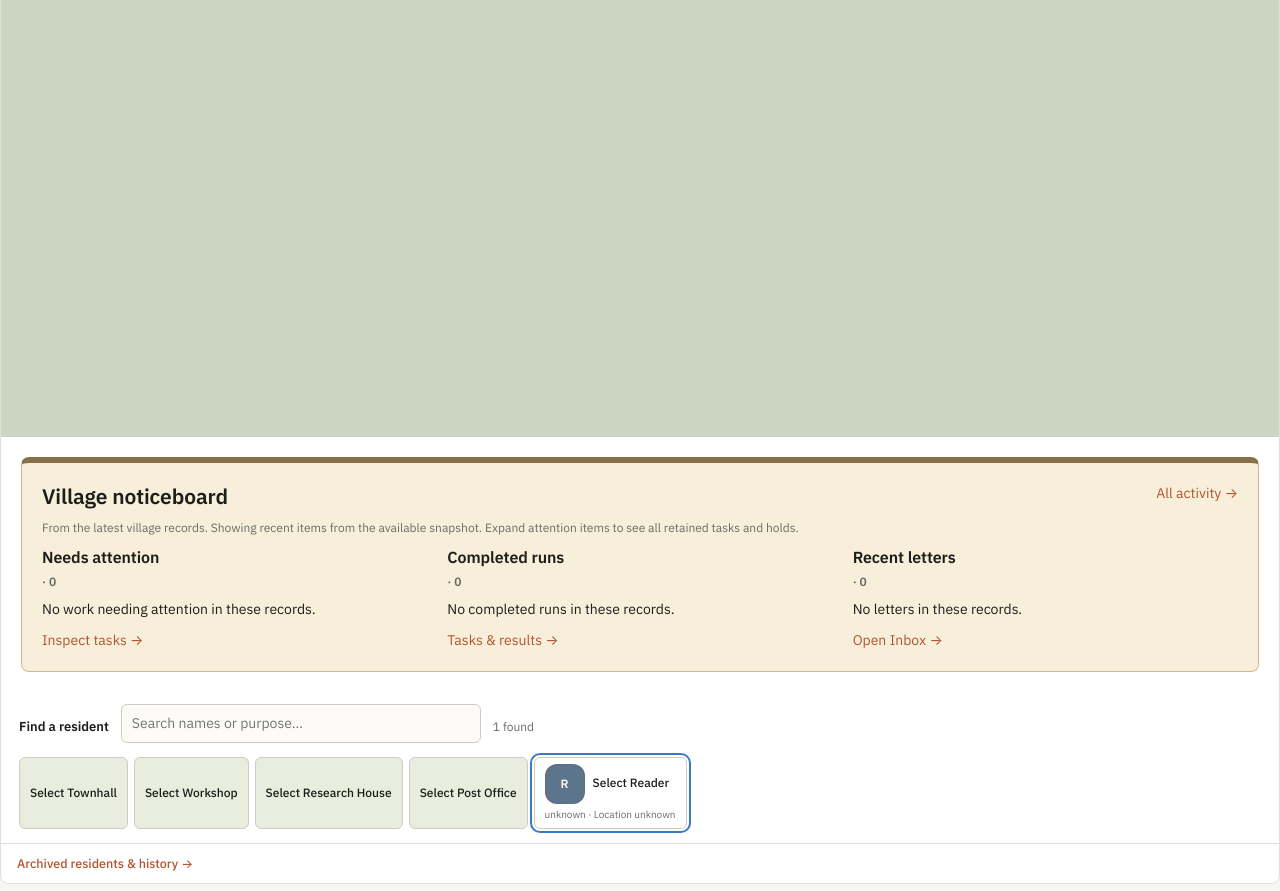
Test: keeps the initial opener through mesh selection and Escape from camera controls
(page scrolled)
Click the button "R Select Reader unknown · Location unknown" at x=610, y=793, box 534,757 -> 686,829
(page scrolled)
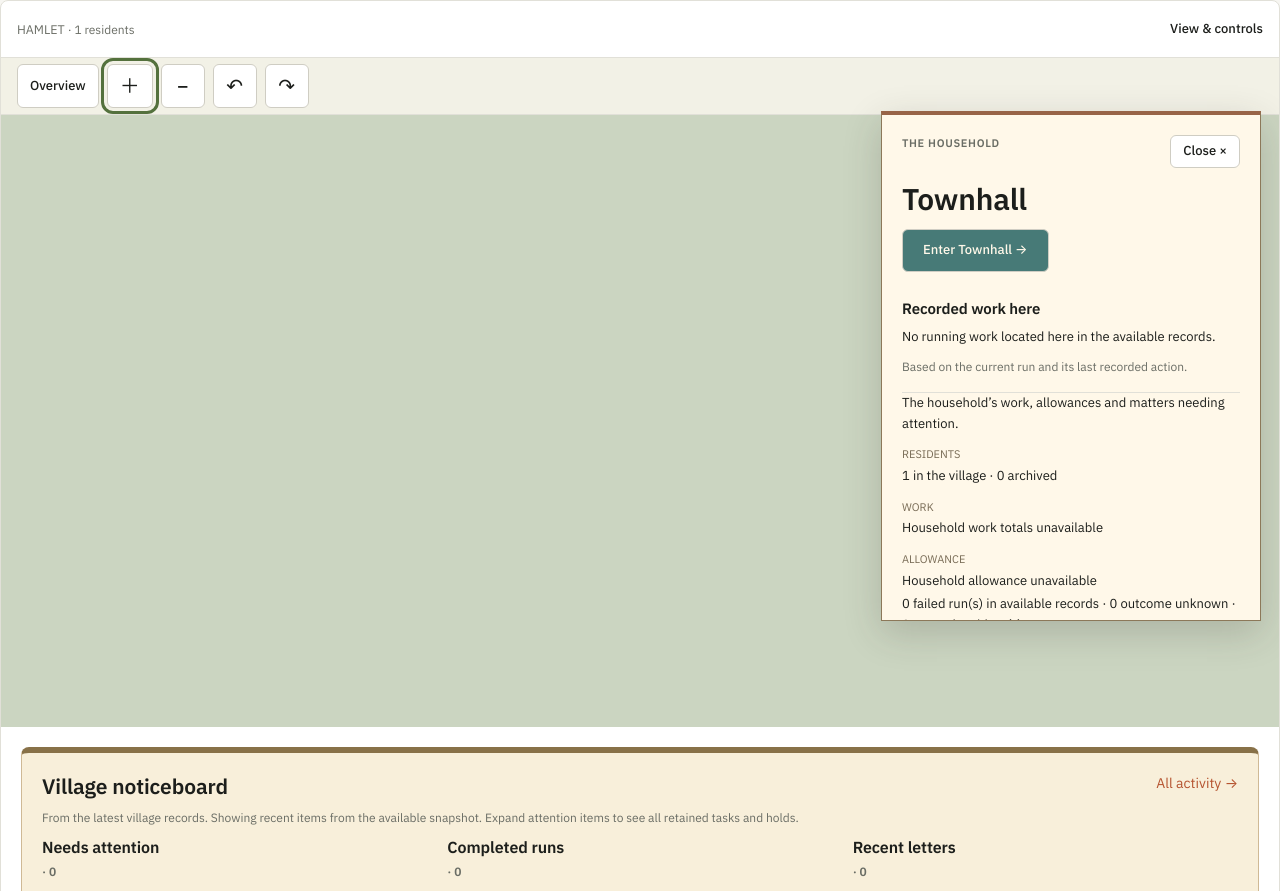
Press Escape in the button named "Zoom in", box 107,64 -> 153,108
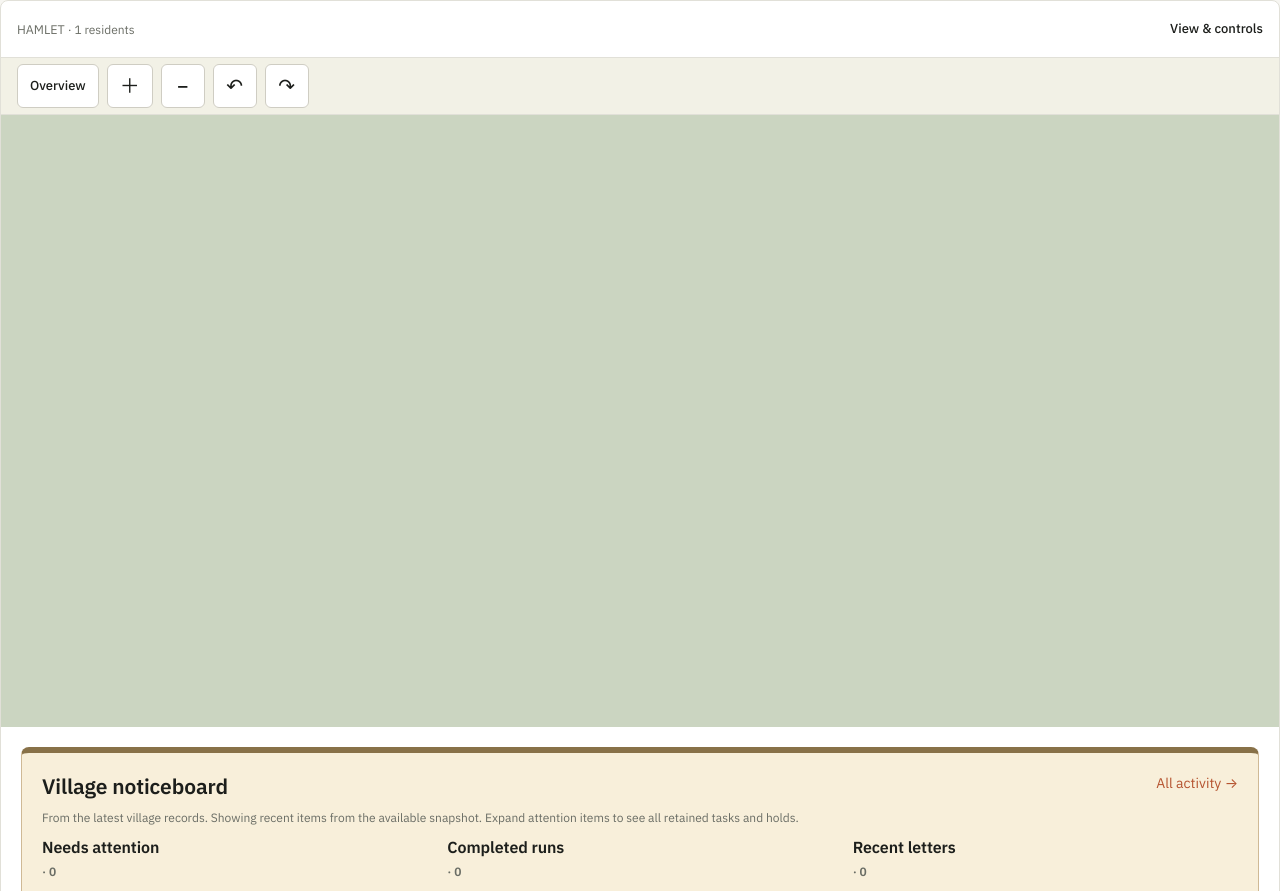
Expected: the dialog is gone
